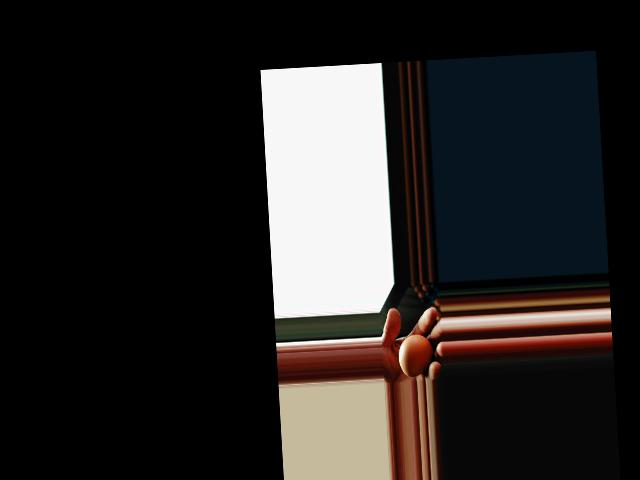egg: (398, 333, 435, 378)
